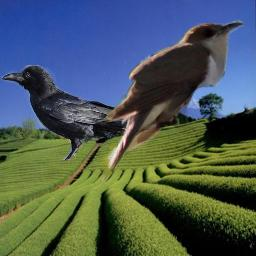Crow: (1, 65, 161, 164)
Cuckoo: (102, 19, 245, 189)
